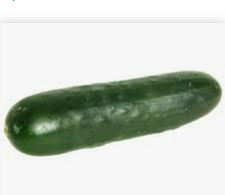Kumquat: (9, 54, 220, 156)
